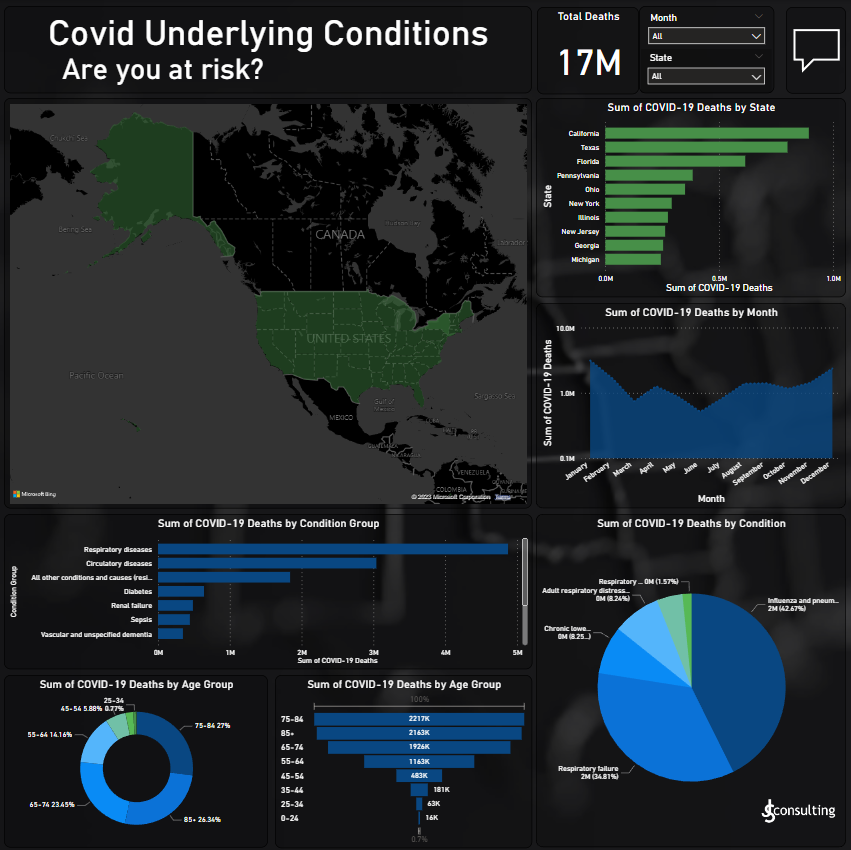

What the dashboard file says about the page in this screenshot:
{"tool":"powerbi","page":{"name":"Covid Underlying Conditions Analysis","canvas":[1280,1280],"ordinal":0},"visuals":[{"type":"filledMap","fields":{"Category":["Covid_Deaths_Contributing_Conditions_Cleaned.State","Covid_Deaths_Contributing_Conditions_Cleaned.COVID-19 Deaths"]},"box":[6.7,147.8,792.2,615.6],"z":0},{"type":"barChart","fields":{"Y":["Sum(Covid_Deaths_Contributing_Conditions_Cleaned.COVID-19 Deaths)"],"Category":["Covid_Deaths_Contributing_Conditions_Cleaned.State"]},"box":[805,147.5,465,298.8],"z":1000},{"type":"card","title":"Total Deaths","fields":{"Values":["Sum(Covid_Deaths_Contributing_Conditions_Cleaned.COVID-19 Deaths)"]},"box":[805.6,10,153.3,131.1],"z":2000},{"type":"areaChart","fields":{"Category":["Covid_Deaths_Contributing_Conditions_Cleaned.Sample Start Date.Variation.Date Hierarchy.Month"],"Y":["Sum(Covid_Deaths_Contributing_Conditions_Cleaned.COVID-19 Deaths)"]},"box":[805,455,465,307.5],"z":3000},{"type":"textbox","box":[6.7,8.9,792.2,131.1],"z":4000},{"type":"actionButton","box":[1180,10,90,130],"z":6000},{"type":"slicer","fields":{"Values":["Covid_Deaths_Contributing_Conditions_Cleaned.Sample Start Date.Variation.Date Hierarchy.Month"]},"box":[958.9,9,202.6,130.6],"z":7000},{"type":"barChart","fields":{"Y":["Sum(Covid_Deaths_Contributing_Conditions_Cleaned.COVID-19 Deaths)"],"Category":["Covid_Deaths_Contributing_Conditions_Cleaned.Condition Group"]},"box":[6.2,771.2,792.5,232.5],"z":8000},{"type":"pieChart","fields":{"Y":["Sum(Covid_Deaths_Contributing_Conditions_Cleaned.COVID-19 Deaths)"],"Category":["Covid_Deaths_Contributing_Conditions_Cleaned.Condition"]},"box":[805,771.2,465,500],"z":9000},{"type":"donutChart","fields":{"Y":["Sum(Covid_Deaths_Contributing_Conditions_Cleaned.COVID-19 Deaths)"],"Category":["Covid_Deaths_Contributing_Conditions_Cleaned.Age Group"]},"box":[6.2,1012.5,396.2,258.8],"z":10000},{"type":"funnel","fields":{"Y":["Sum(Covid_Deaths_Contributing_Conditions_Cleaned.COVID-19 Deaths)"],"Category":["Covid_Deaths_Contributing_Conditions_Cleaned.Age Group"]},"box":[412.5,1012.5,386.2,260],"z":11000},{"type":"image","box":[1126.9,1155.5,142.6,124.5],"z":11001},{"type":"slicer","fields":{"Values":["Covid_Deaths_Contributing_Conditions_Cleaned.State"]},"box":[961.9,73.5,196,66],"z":11002}]}

Visuals, with their boxes in screenshot pixels (x1, y1, x2, y2), scaled from the page's 1280x1280 canvas onto the 851x850 screenshot:
filledMap - Covid_Deaths_Contributing_Conditions_Cleaned.State x Covid_Deaths_Contributing_Conditions_Cleaned.COVID-19 Deaths: bbox(4, 98, 531, 507)
barChart - Sum(Covid_Deaths_Contributing_Conditions_Cleaned.COVID-19 Deaths) x Covid_Deaths_Contributing_Conditions_Cleaned.State: bbox(535, 98, 844, 296)
"Total Deaths" card: bbox(536, 7, 638, 94)
areaChart - Covid_Deaths_Contributing_Conditions_Cleaned.Sample Start Date.Variation.Date Hierarchy.Month x Sum(Covid_Deaths_Contributing_Conditions_Cleaned.COVID-19 Deaths): bbox(535, 302, 844, 506)
textbox: bbox(4, 6, 531, 93)
actionButton: bbox(785, 7, 844, 93)
slicer - Covid_Deaths_Contributing_Conditions_Cleaned.Sample Start Date.Variation.Date Hierarchy.Month: bbox(638, 6, 772, 93)
barChart - Sum(Covid_Deaths_Contributing_Conditions_Cleaned.COVID-19 Deaths) x Covid_Deaths_Contributing_Conditions_Cleaned.Condition Group: bbox(4, 512, 531, 667)
pieChart - Sum(Covid_Deaths_Contributing_Conditions_Cleaned.COVID-19 Deaths) x Covid_Deaths_Contributing_Conditions_Cleaned.Condition: bbox(535, 512, 844, 844)
donutChart - Sum(Covid_Deaths_Contributing_Conditions_Cleaned.COVID-19 Deaths) x Covid_Deaths_Contributing_Conditions_Cleaned.Age Group: bbox(4, 672, 268, 844)
funnel - Sum(Covid_Deaths_Contributing_Conditions_Cleaned.COVID-19 Deaths) x Covid_Deaths_Contributing_Conditions_Cleaned.Age Group: bbox(274, 672, 531, 845)
image: bbox(749, 767, 844, 849)
slicer - Covid_Deaths_Contributing_Conditions_Cleaned.State: bbox(640, 49, 770, 93)
